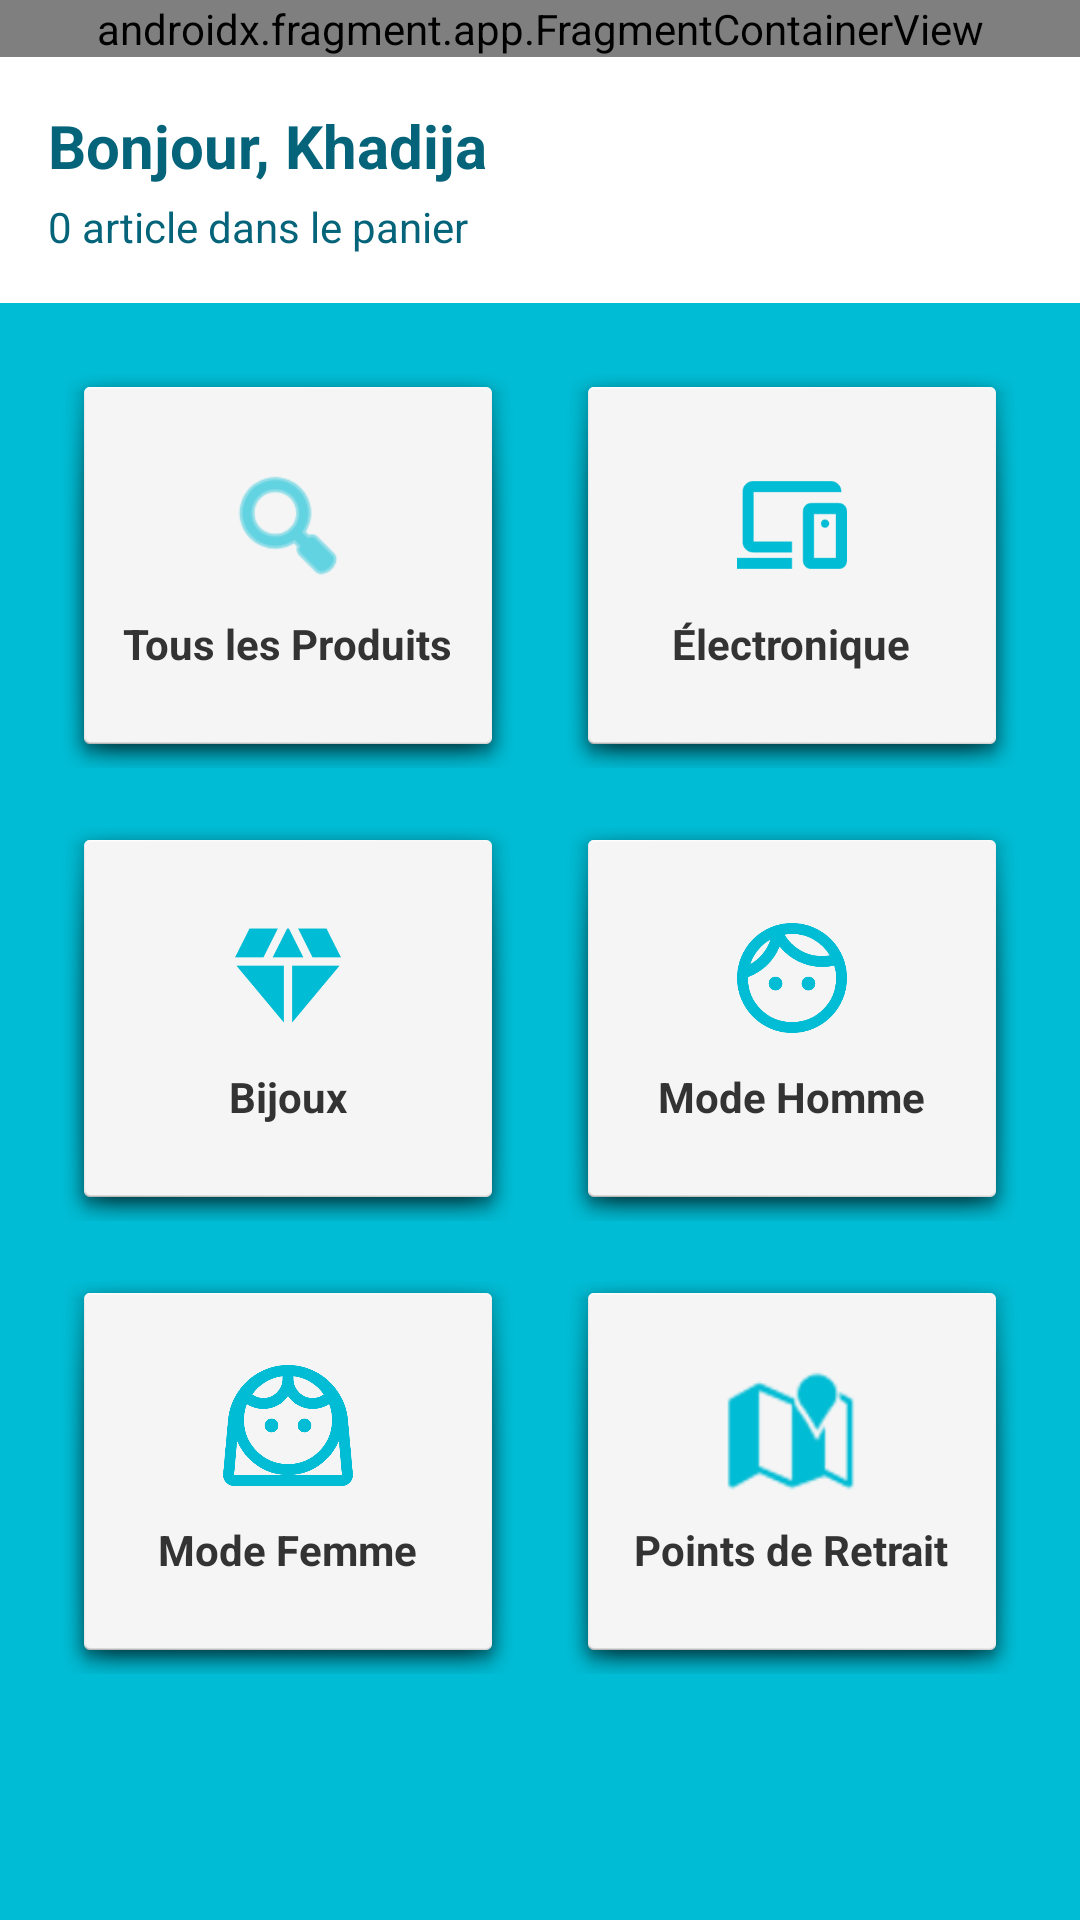

Where icons sit on this 1080x1920 app screen, as (x1, y1, x2, y2):
devices: (737, 481, 847, 569)
diamond: (235, 928, 341, 1022)
map: (727, 1373, 854, 1489)
men: (737, 923, 847, 1033)
search: (239, 477, 337, 575)
women: (223, 1365, 353, 1486)
